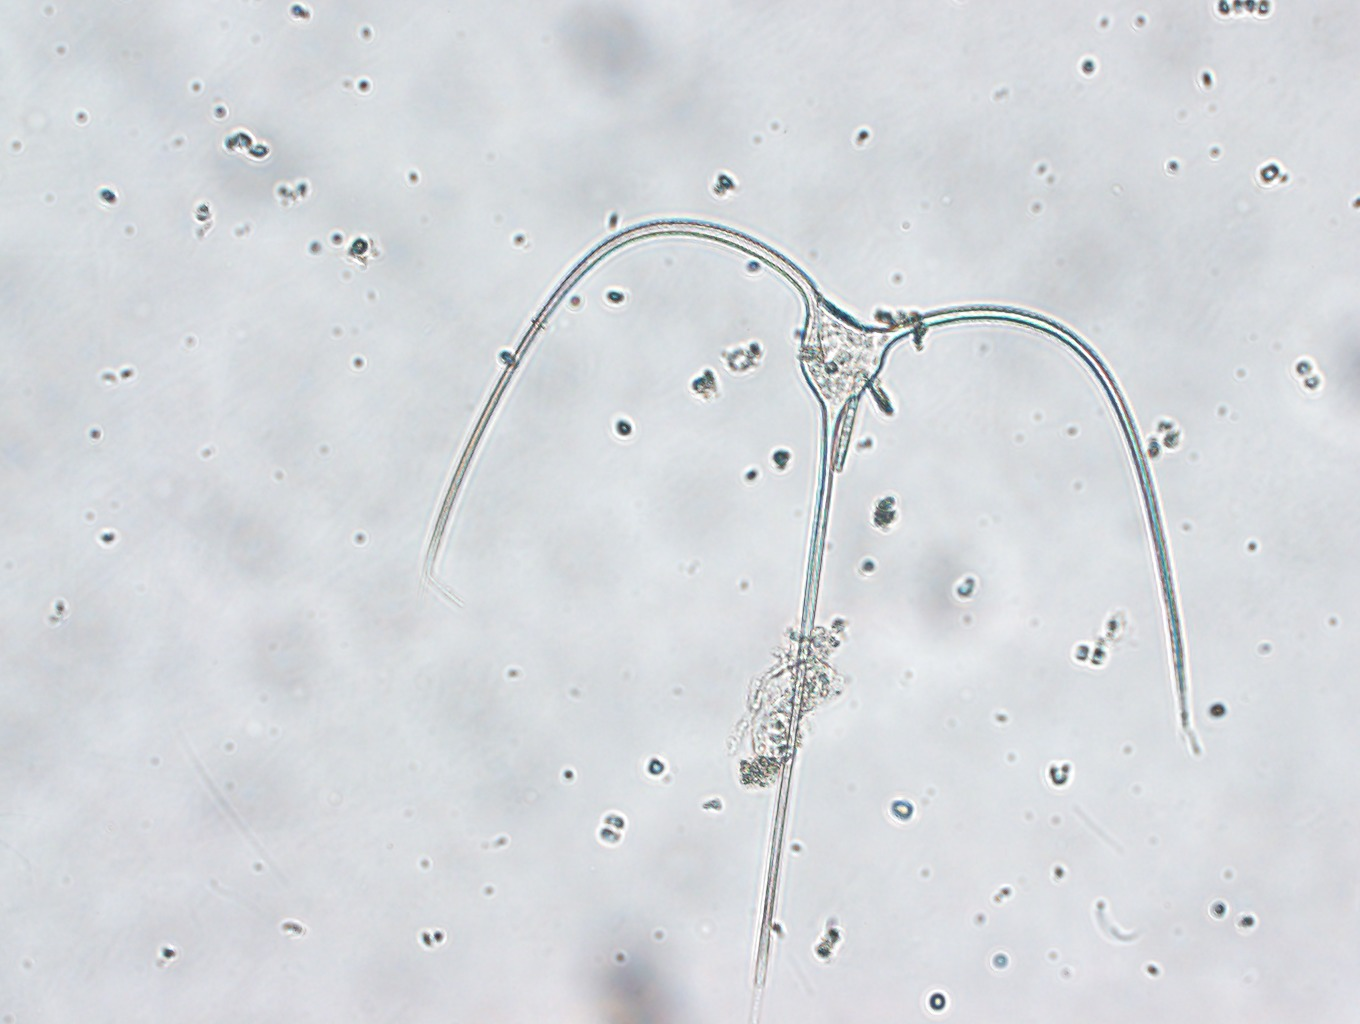ceratium trichoceros: (419, 205, 1208, 1024)
